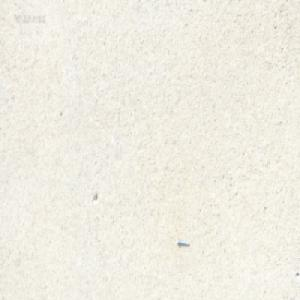Nail: (177, 237, 189, 246)
